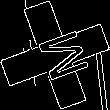M_W: (23, 25, 87, 85)
